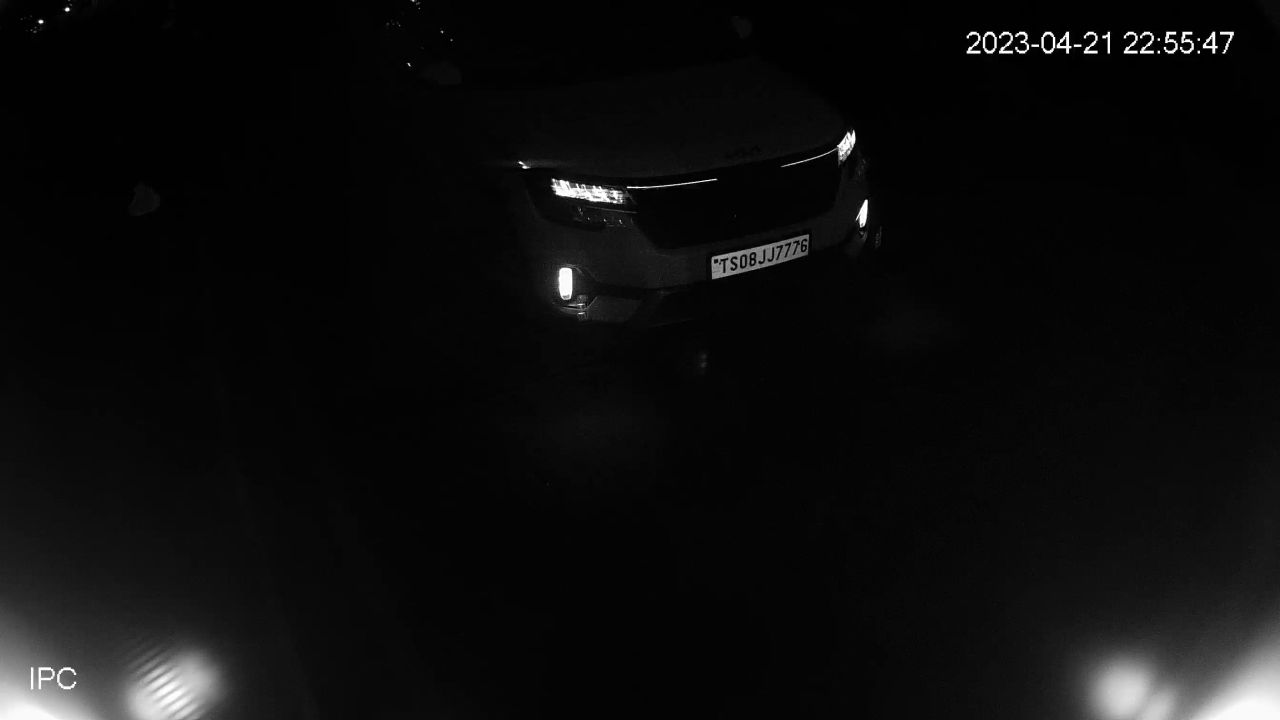license_plate: (706, 229, 815, 293)
